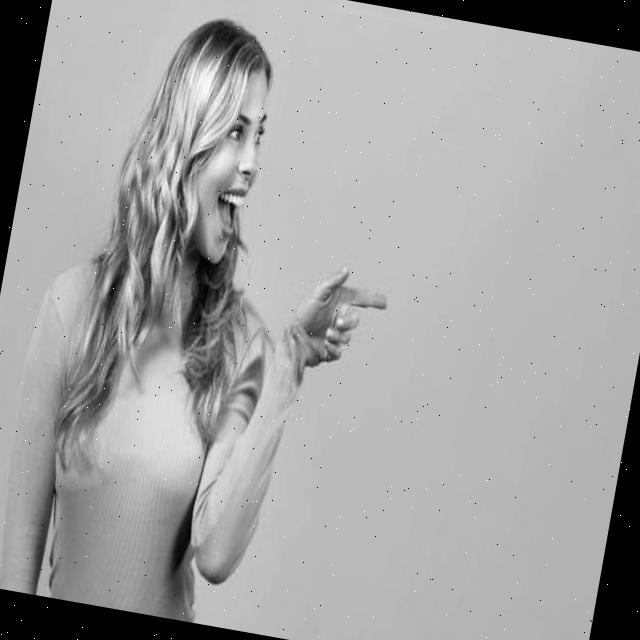Surprised: (166, 56, 277, 268)
